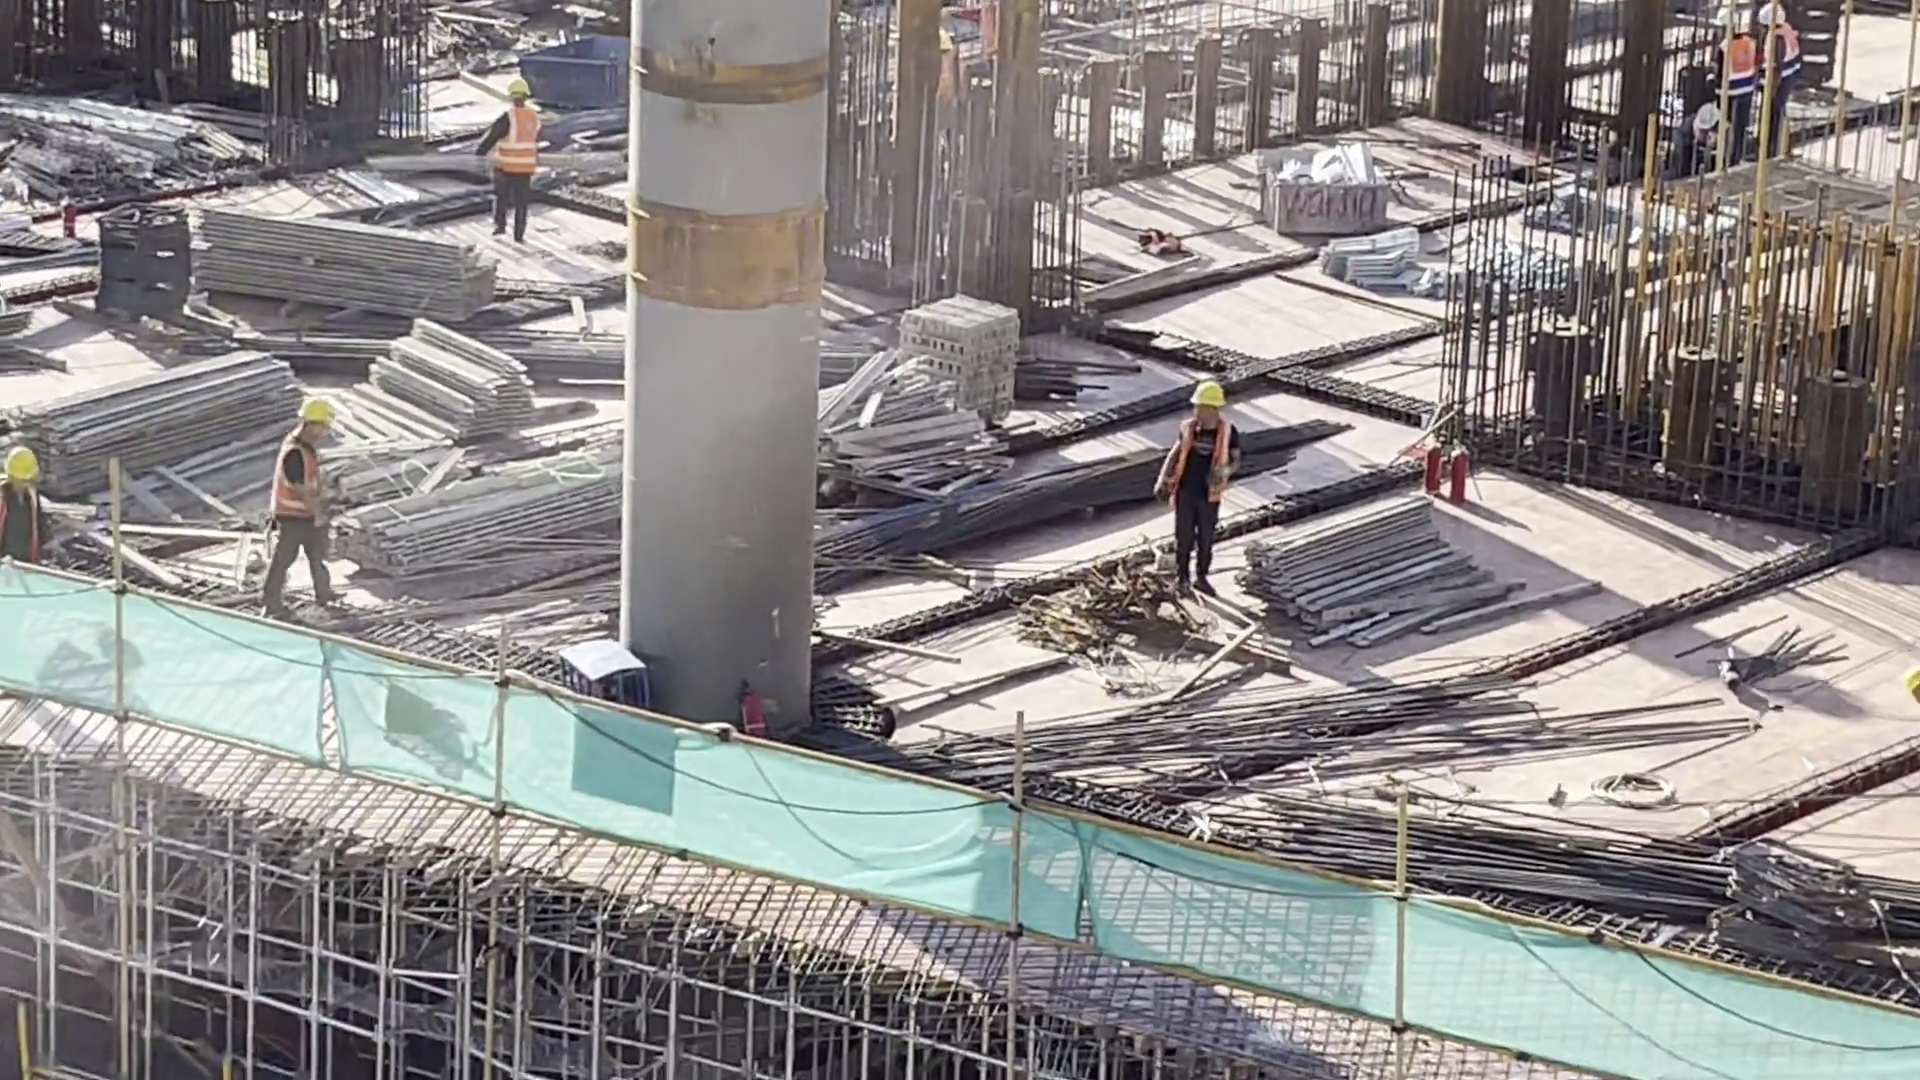helmet: (293, 397, 341, 434), (1, 448, 35, 478), (1189, 381, 1224, 409), (505, 74, 533, 102)
hopper: (512, 12, 644, 123), (1251, 148, 1393, 235)
person: (255, 393, 350, 616), (1158, 365, 1237, 568), (462, 72, 549, 228), (1703, 4, 1777, 179), (1, 443, 69, 574), (1761, 1, 1799, 150)
vest: (265, 441, 327, 523), (1719, 30, 1796, 93), (1171, 416, 1223, 507), (494, 104, 539, 175)
wood: (1244, 469, 1497, 653), (197, 217, 507, 341), (332, 448, 619, 563), (18, 371, 307, 482), (355, 311, 537, 453)
